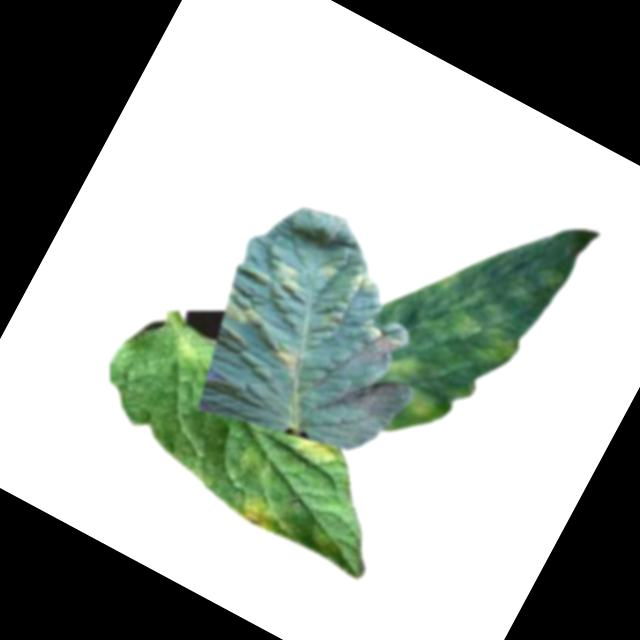Leaf_Mold: (409, 265, 538, 379), (210, 281, 276, 340), (288, 419, 346, 473), (376, 344, 428, 398), (259, 249, 314, 299), (262, 332, 315, 383), (237, 489, 287, 536), (404, 383, 448, 427), (342, 264, 386, 304), (314, 256, 344, 284)
